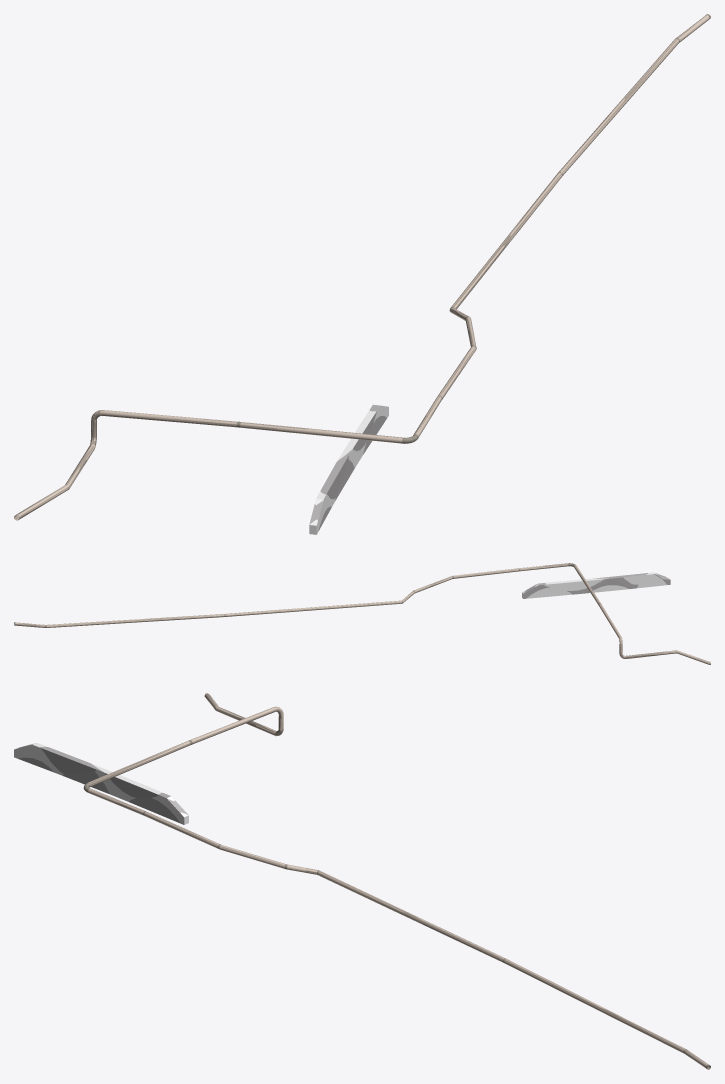
The model's file is pipeline_segment4.dae.
3 renders of one model, top to bottom at view 1: azimuth 30°, elevation 25°; view 2: azimuth 150°, elevation 25°; view 3: azimuth 270°, elevation 25°, orthographic. The views are drawn at different scales.
Visible parts, largest first — view 1: pipeline_segment4_a2000, pipeline_segment4_a1000; view 2: pipeline_segment4_a2000, pipeline_segment4_a1000; view 3: pipeline_segment4_a2000, pipeline_segment4_a1000.
Part boxes in pixels (box(x1,y1,x2,y2)): pipeline_segment4_a2000: box(14, 14, 710, 534); pipeline_segment4_a1000: box(14, 14, 710, 531); pipeline_segment4_a2000: box(14, 563, 710, 664); pipeline_segment4_a1000: box(14, 563, 710, 664); pipeline_segment4_a2000: box(14, 693, 710, 1069); pipeline_segment4_a1000: box(18, 693, 710, 1069).
Bounding box in the file's own units: 293 × 209 × 15.99.
